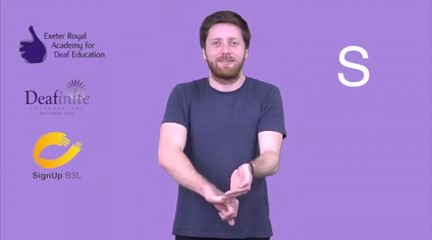S: (207, 159, 255, 231)
